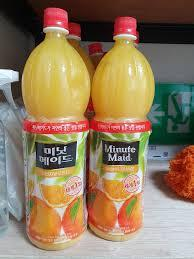minutemaid_org_orange: (23, 5, 89, 251), (91, 8, 152, 244)
